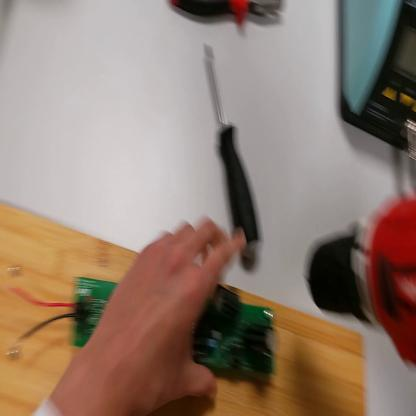electric screwdriver: (305, 193, 416, 374)
hand: (94, 216, 247, 416)
high voltage board: (1, 277, 277, 386)
pliers: (170, 4, 287, 31)
screwdriver-: (204, 43, 262, 271)
welder station: (332, 1, 416, 156)
working area: (2, 197, 367, 415)
